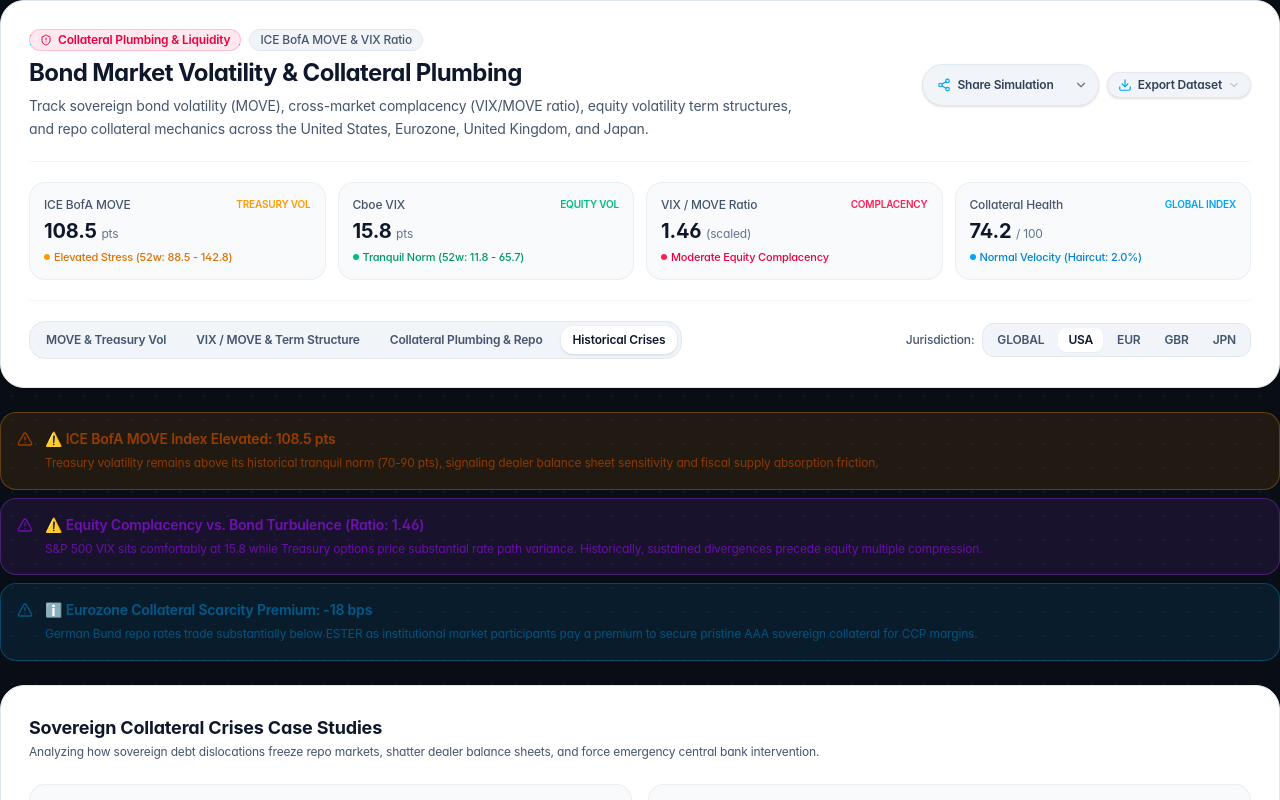
BondVolatilityPlumbingRadar Component › switches jurisdiction to Eurozone and displays Bund collateral metrics
Click the button "EUR": point(1129, 340) top-left (1107, 328), bottom-right (1150, 352)
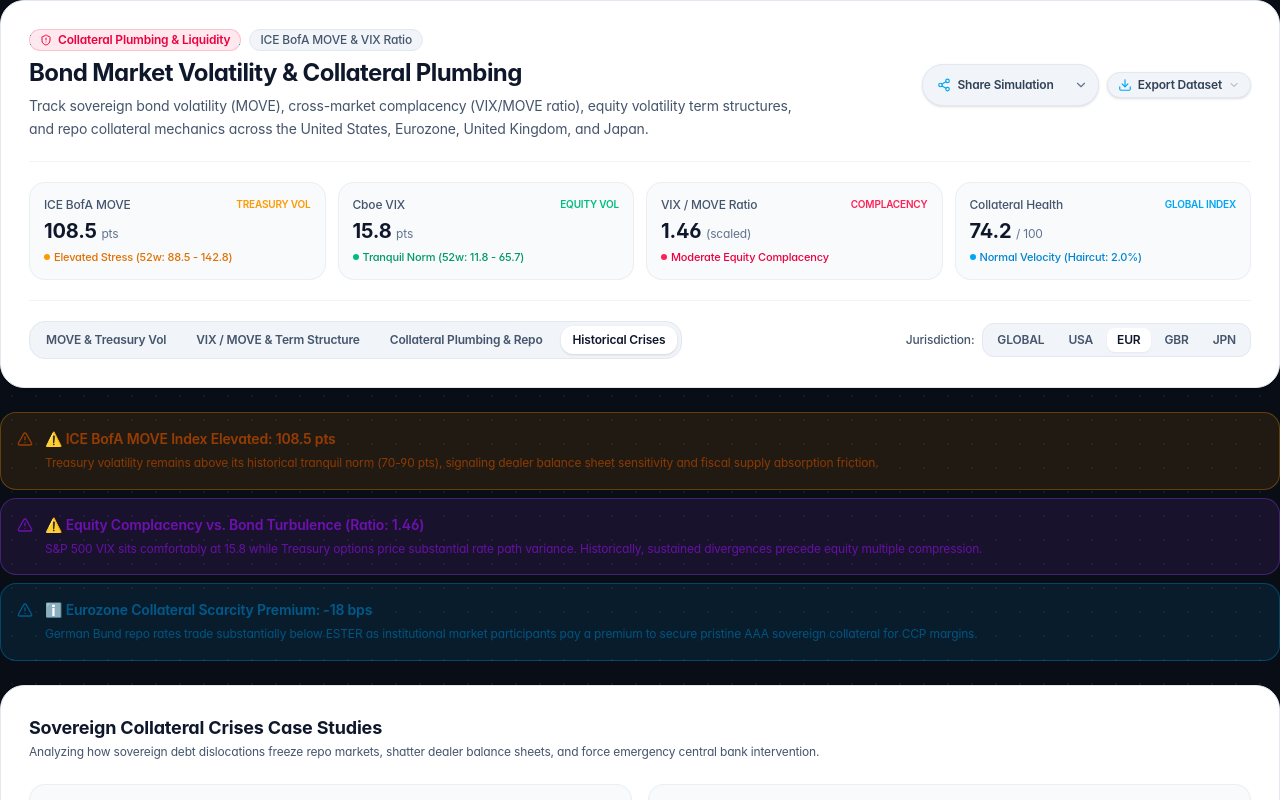
Click the button "Collateral Plumbing & Repo": point(466, 340) top-left (378, 326), bottom-right (555, 354)
(page scrolled)
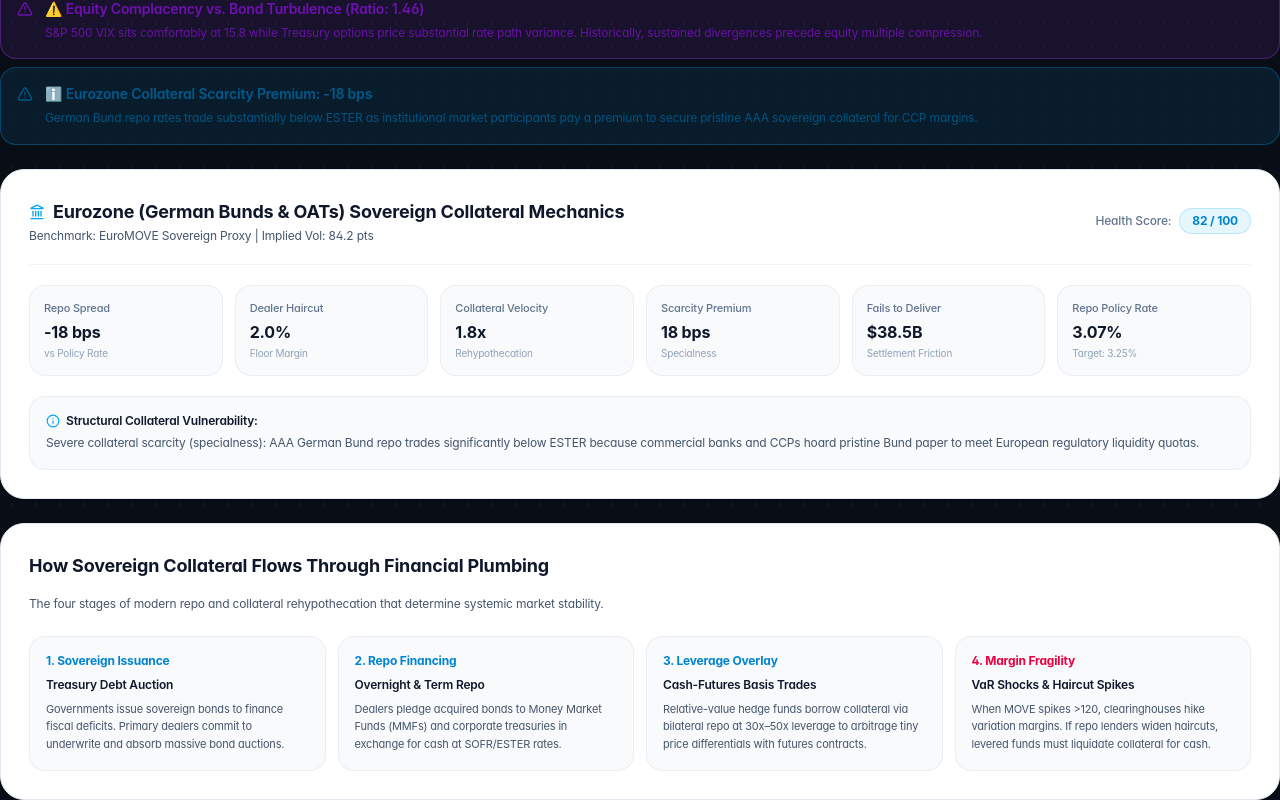
Check: the heading "Eurozone (German Bunds & OATs) Sovereign Collateral Mechanics" is shown, box top-left (53, 198), bottom-right (624, 226)
Check: the text "Severe collateral scarcity" is shown, box top-left (46, 435), bottom-right (1199, 450)
